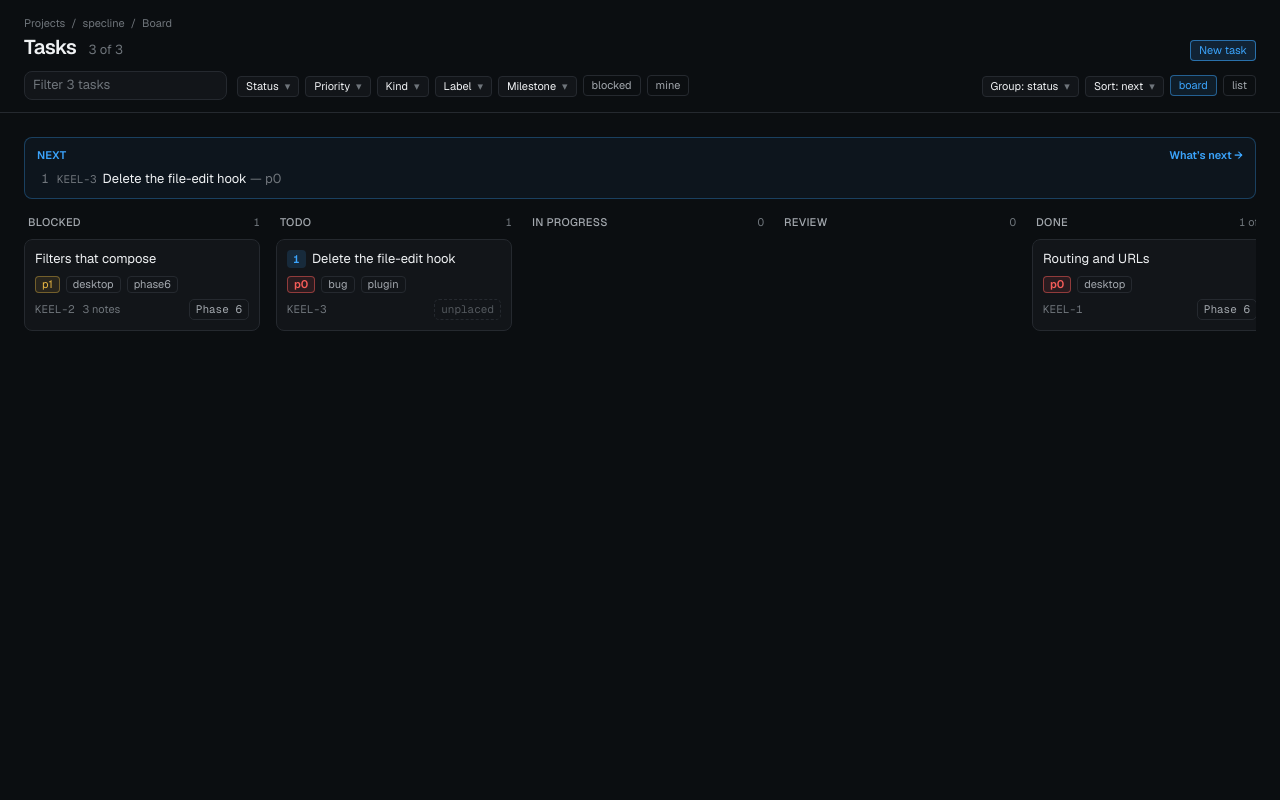
Test: making a task from the board › says which row was created
The image size is (1280, 800).
Step 1. Click the button "New task" → (1223, 51), box top-left (1190, 40), bottom-right (1256, 61)
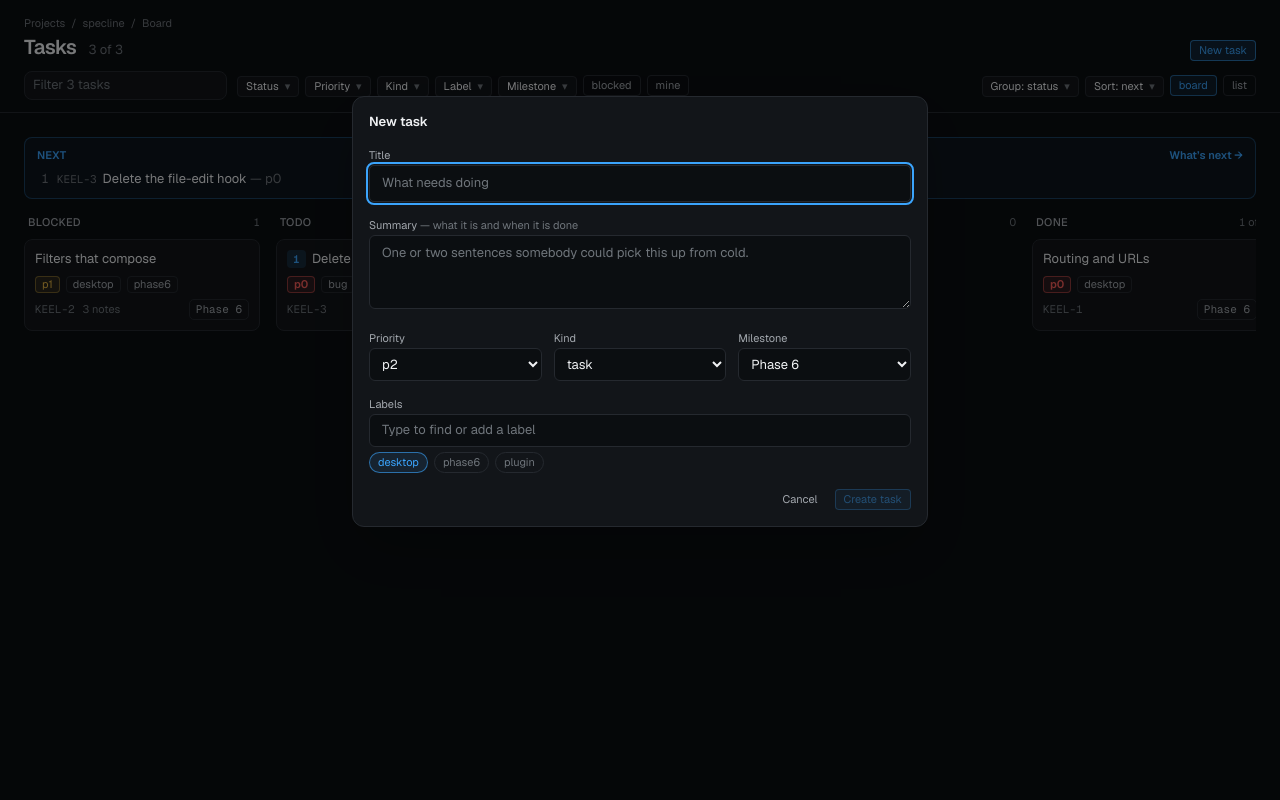
Step 2. Type "Something I thought of" into the field with placeholder "What needs doing" → (640, 183), box top-left (369, 165), bottom-right (911, 202)
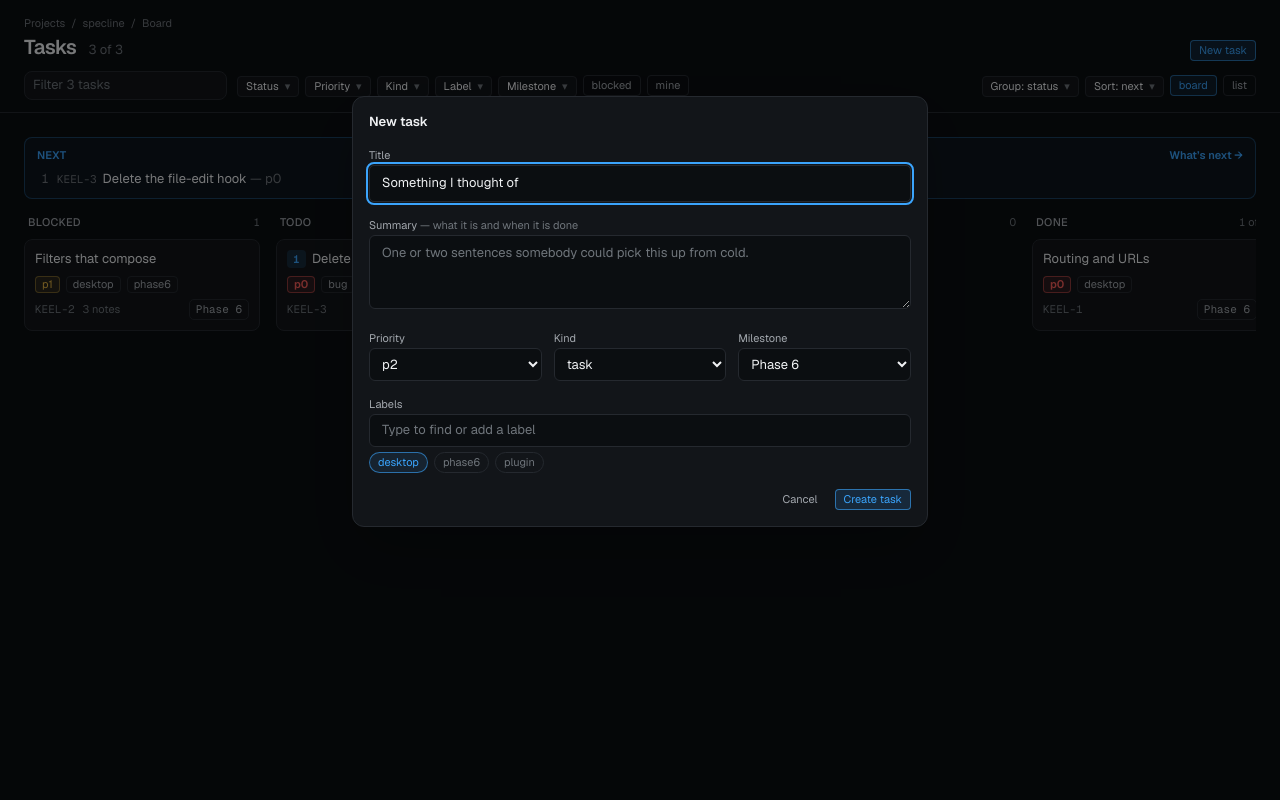
Step 3. Click the button "Create task" → (873, 500), box top-left (834, 490), bottom-right (911, 510)
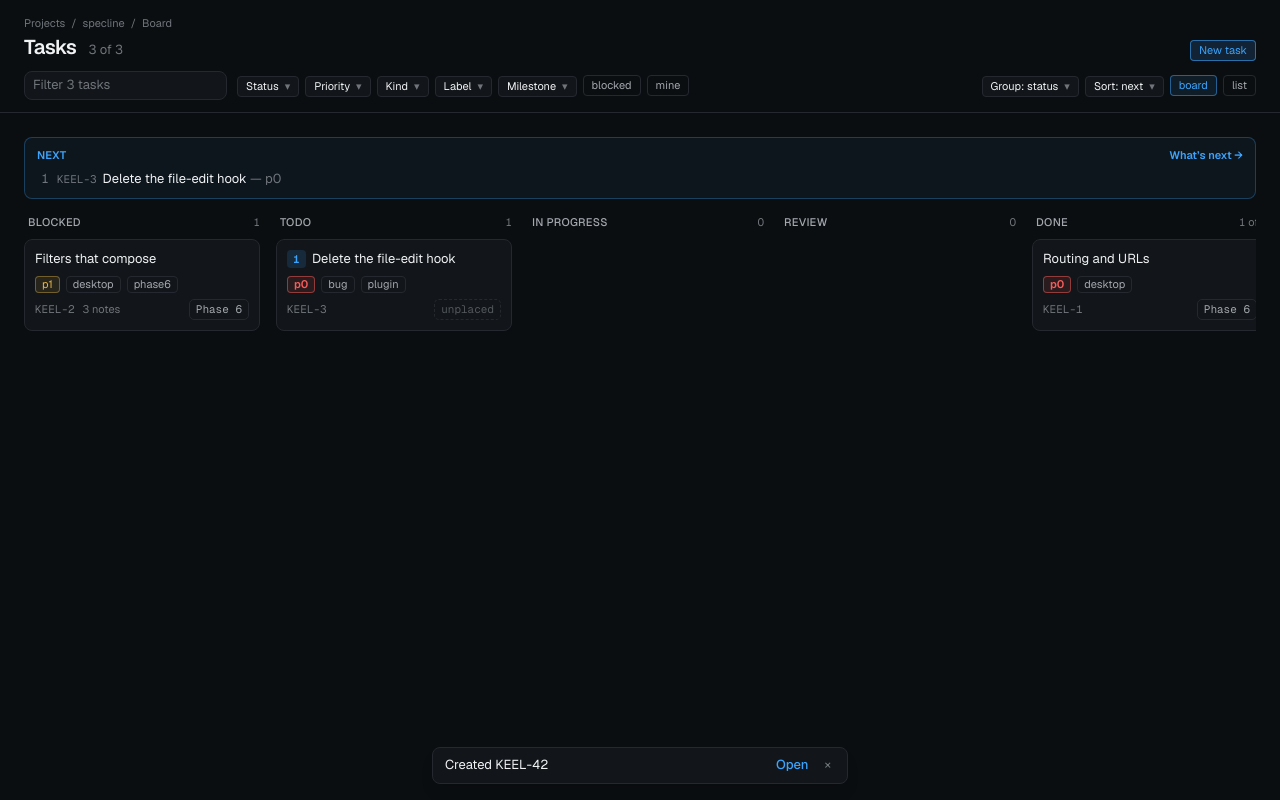
Expected: the text "Created KEEL-42" is shown, top-left (445, 756), bottom-right (548, 773)
